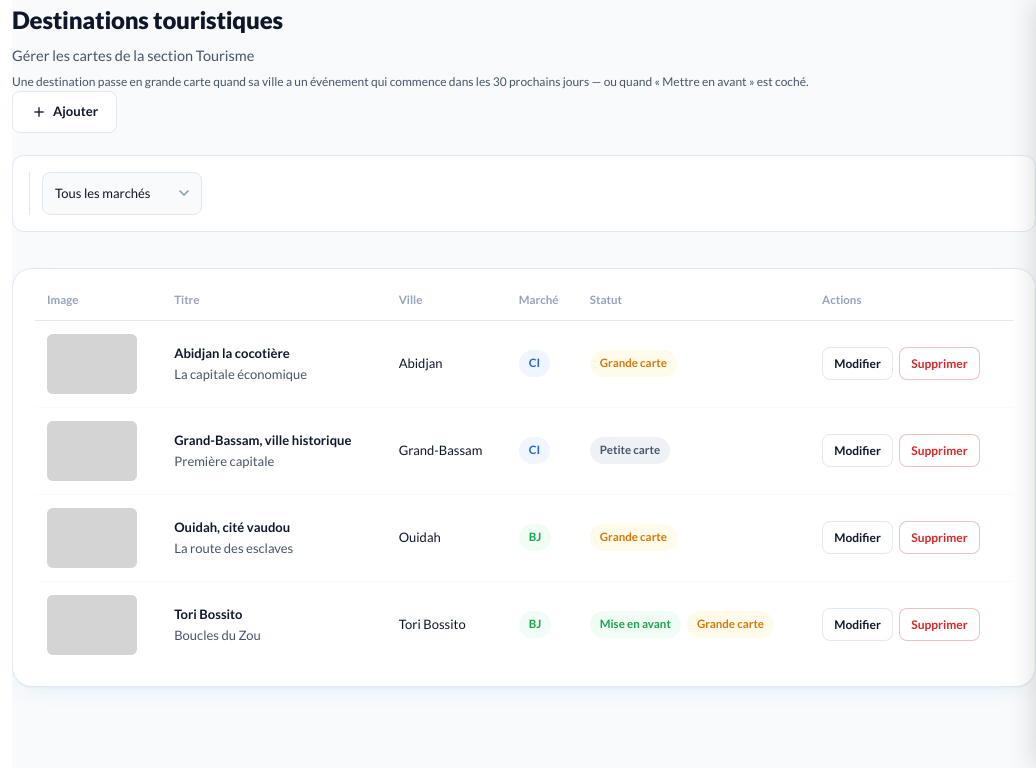
Test: AdminDestinationsPage — création › exige une image quand aucune nouvelle image n'est fournie
This screenshot has width=1036, height=768.
Click the button "Ajouter" at (64, 112), box [12,91,117,133]
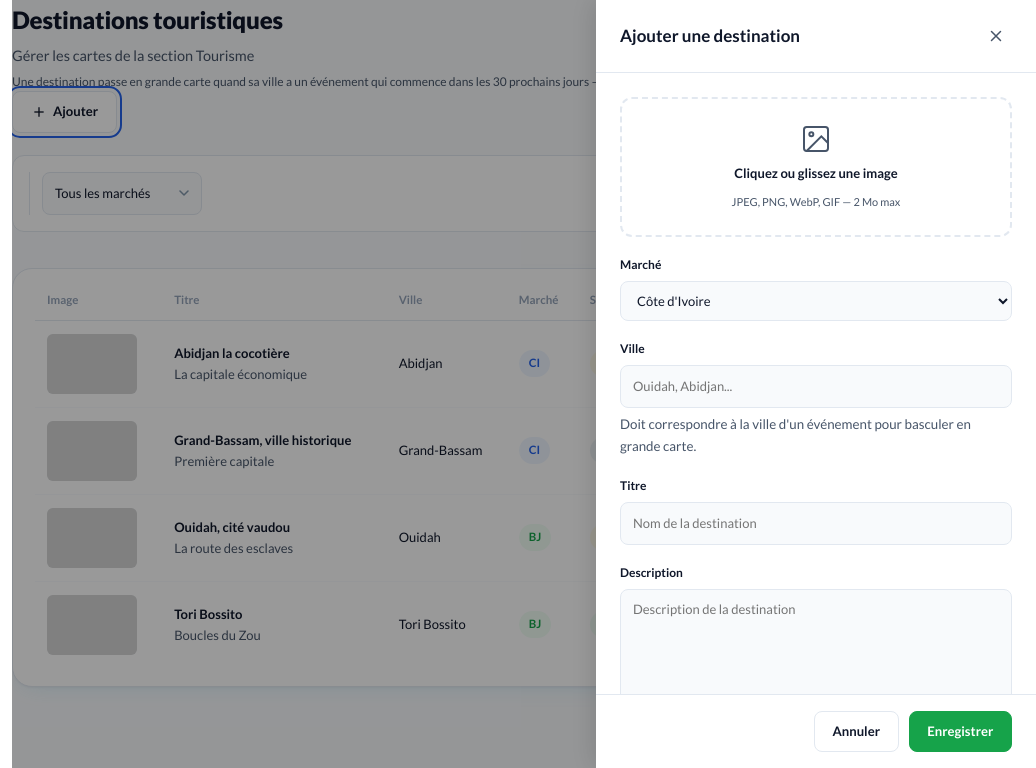
Type "Grand-Popo" into the field with placeholder "Ouidah, Abidjan..." at (816, 386), box [620,365,1012,408]
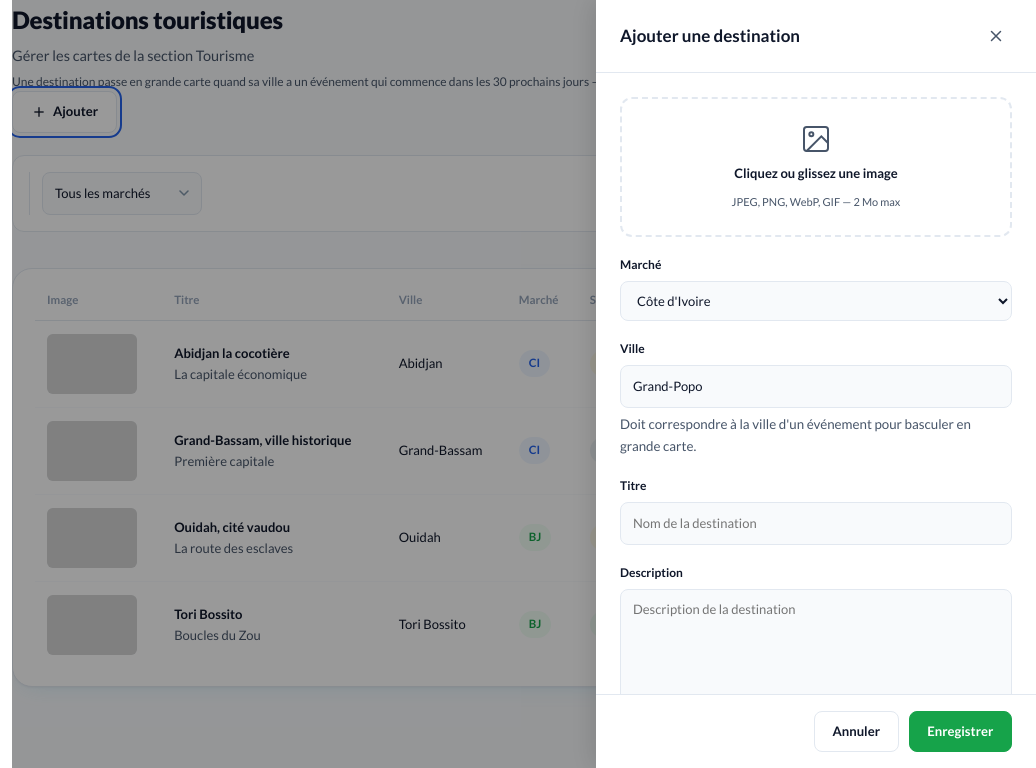
Type "Grand-Popo balnéaire" into the field with placeholder "Nom de la destination" at (816, 524), box [620,502,1012,545]
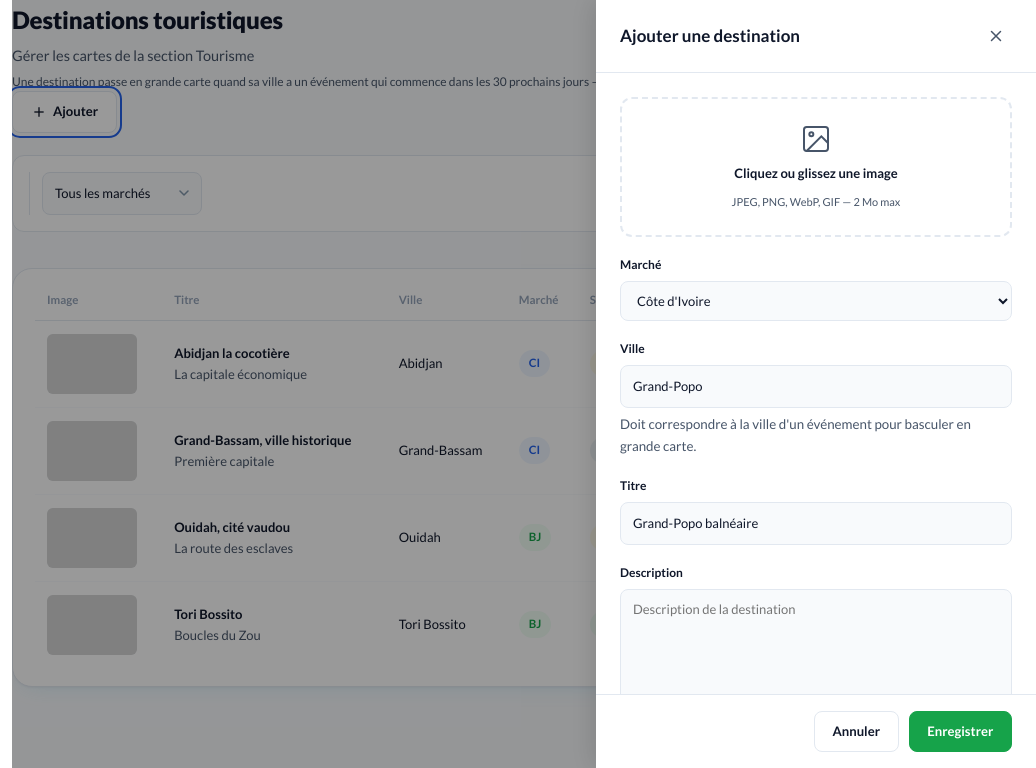
Type "Plages du littoral" into the text box with placeholder "Description de la destination" at (816, 649), box [620,589,1012,708]
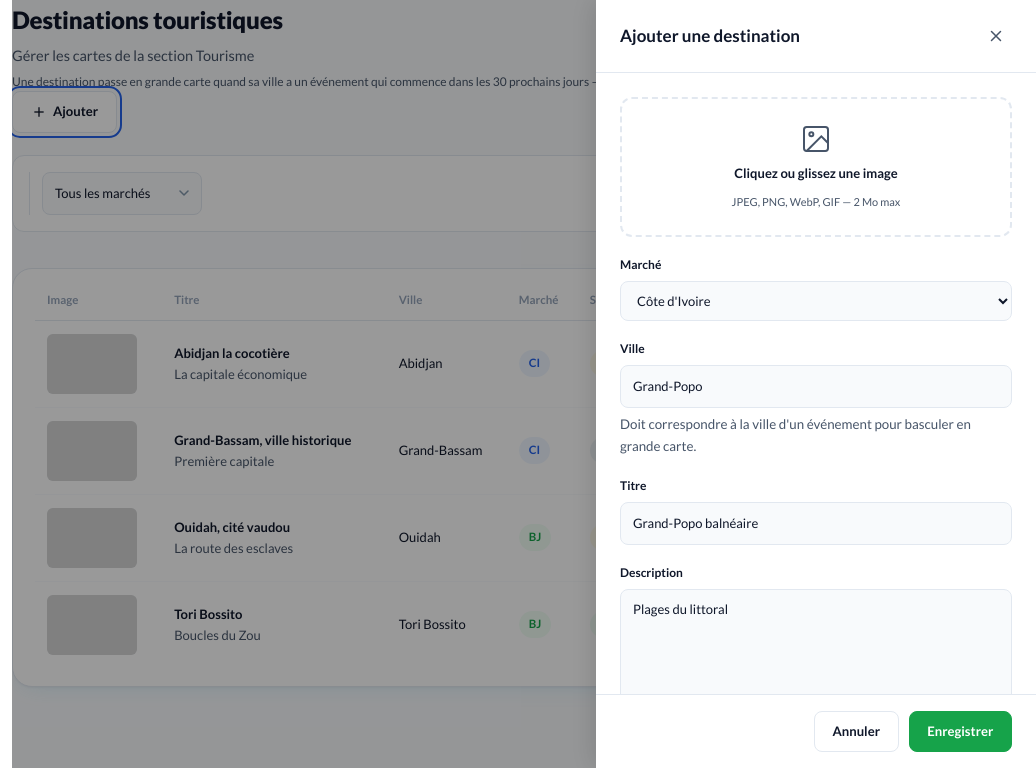
Click the button "Enregistrer" at (960, 731), box [909,711,1012,752]
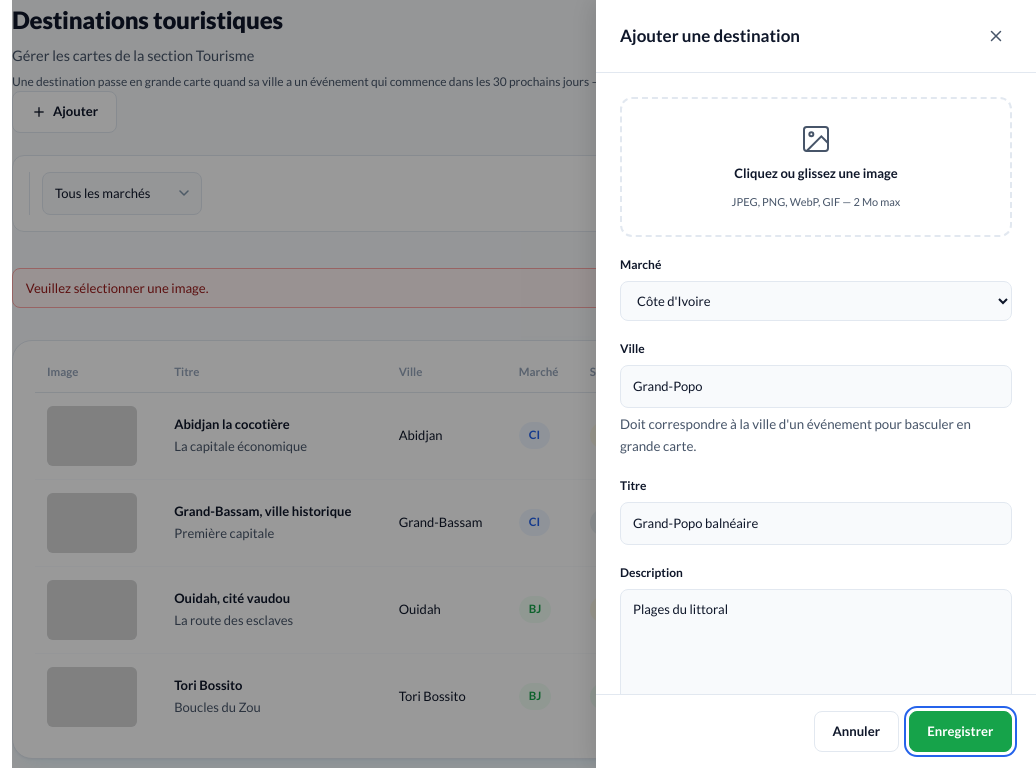
Now the text "Veuillez sélectionner une image." is shown, box [12,268,1035,308]
